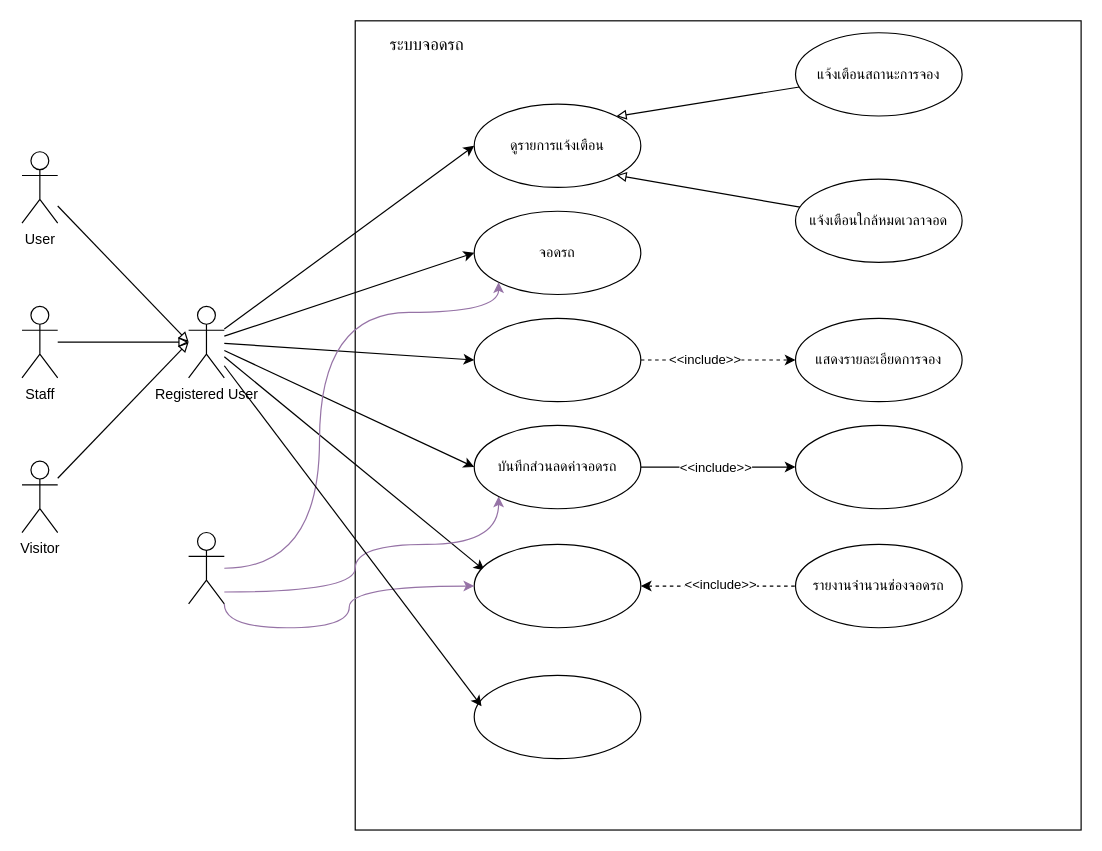
Image size: 1102x851. Some labels were removed from this diagram. The shapes that lost their labels are listed below. From the top down, each one's box as (x1, y1, x2, y2) in pixels, then its label:
(473, 317, 641, 402): จองที่จอดรถ
(794, 424, 962, 509): จำนวนชั่วโมงในการจอดฟรี
(187, 531, 224, 604): Guest
(473, 543, 641, 628): ดูสถานที่จอดรถ
(473, 674, 641, 759): จัดการช่องจอดรถรายการโปรด
